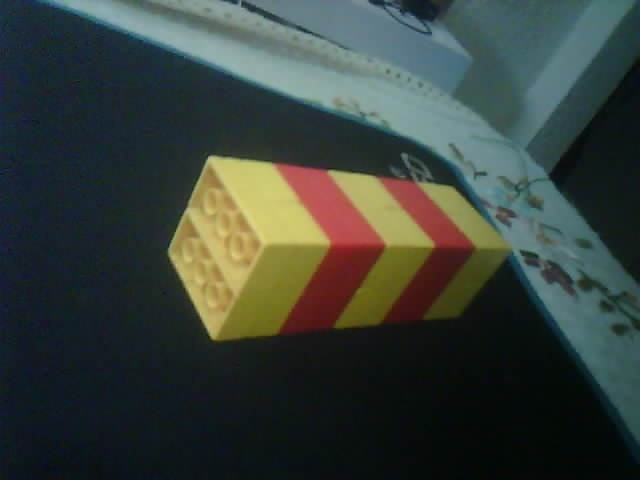lego: (164, 153, 514, 344)
